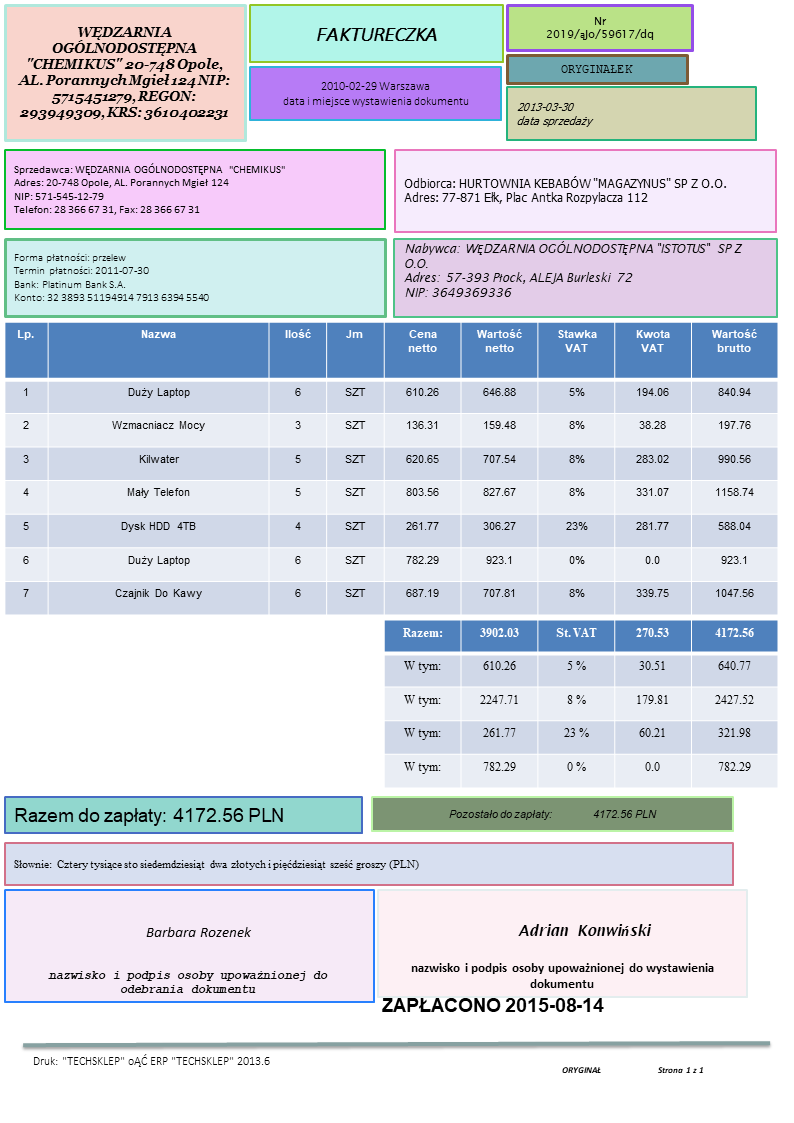Table: (2, 321, 780, 618), (382, 618, 780, 790)
TextBox: (15, 24, 234, 124), (401, 238, 745, 301), (10, 161, 289, 219), (401, 173, 729, 208), (12, 249, 209, 304), (408, 958, 720, 990), (47, 964, 331, 997), (11, 855, 421, 874), (13, 802, 286, 828), (279, 76, 471, 110), (378, 992, 604, 1016), (29, 1050, 275, 1069), (445, 805, 658, 824), (544, 13, 657, 43), (514, 96, 596, 131), (313, 22, 439, 44), (515, 921, 653, 940), (560, 1061, 707, 1077), (142, 923, 256, 941), (557, 59, 636, 76)
